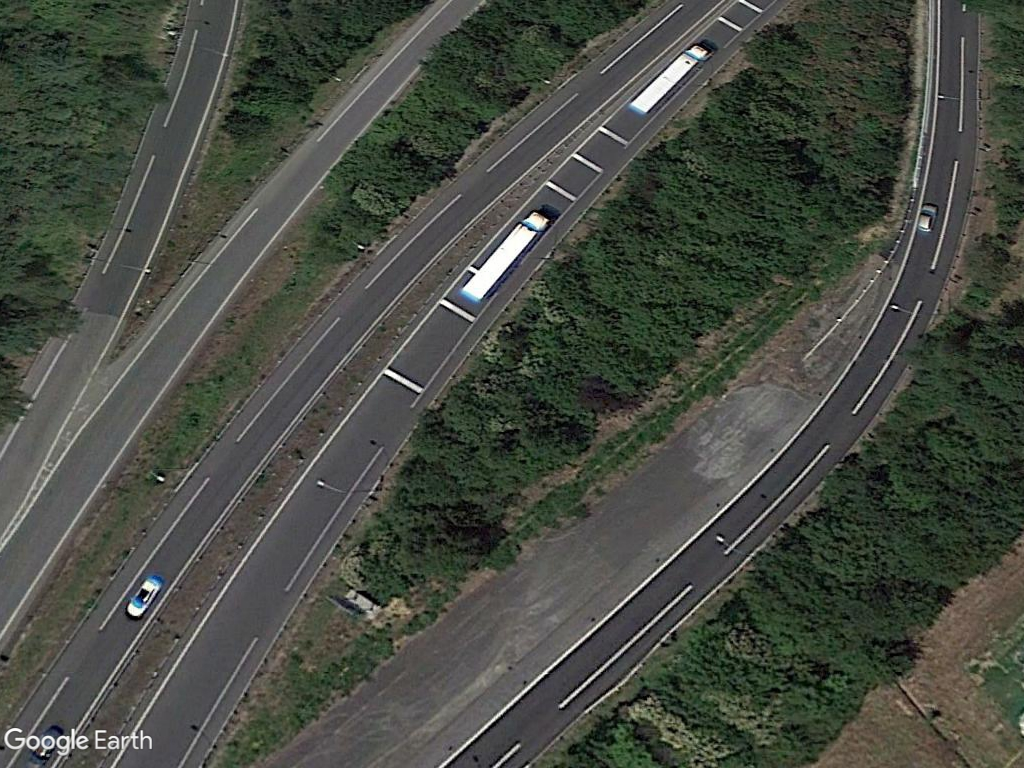car: (123, 573, 166, 619)
longvehicle: (457, 210, 555, 309)
